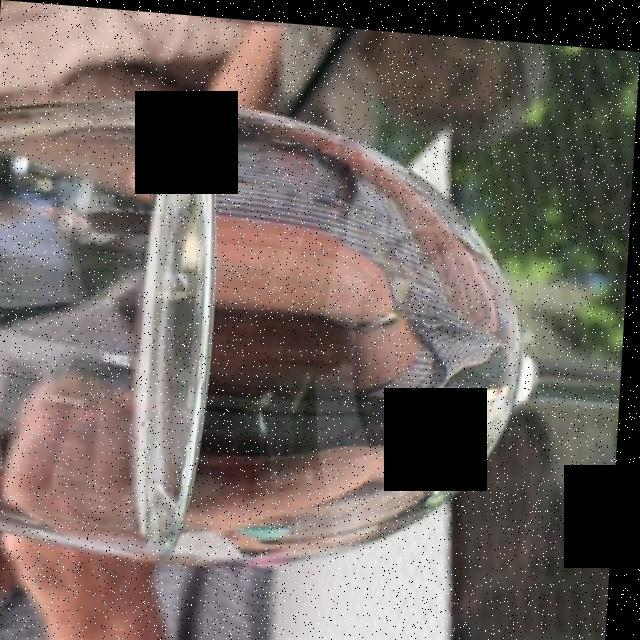water: (76, 117, 507, 554)
